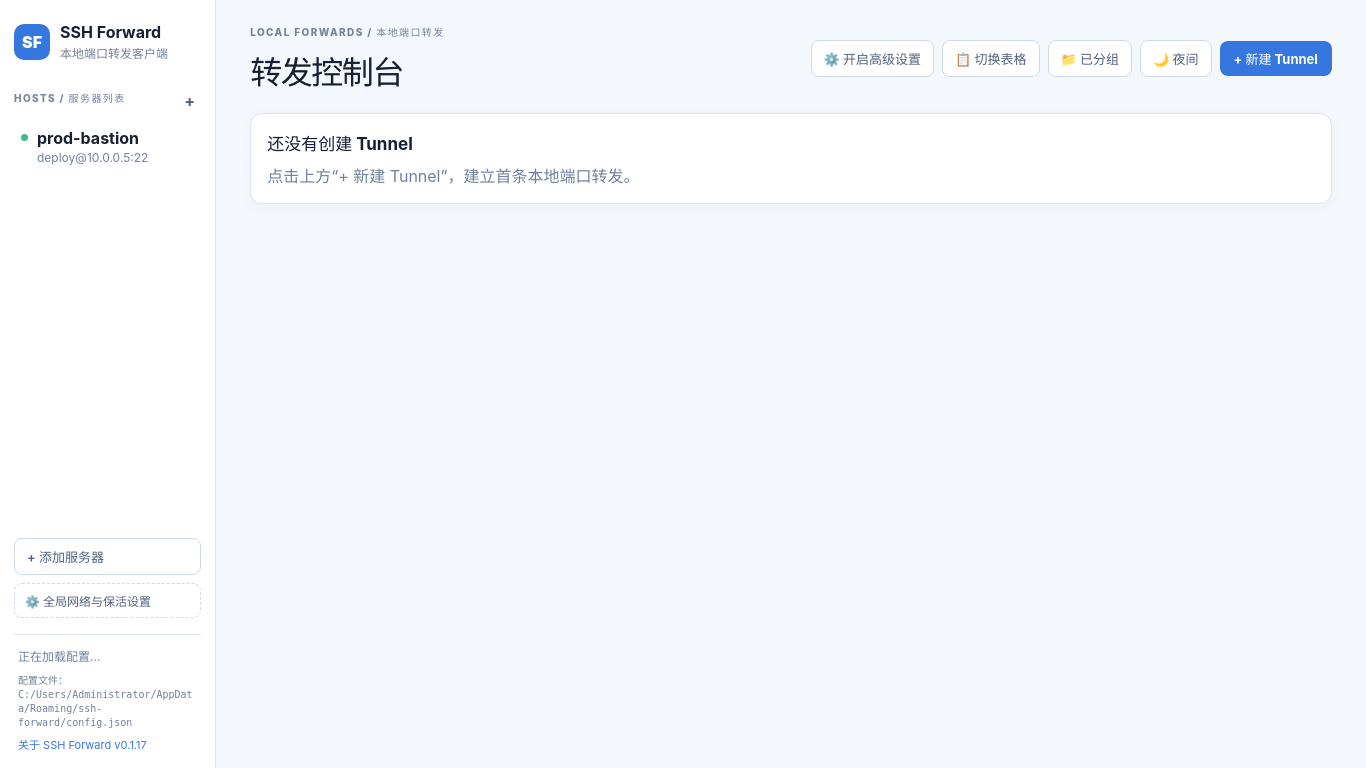
Test: 对话框语义与键盘操作 › 按 Esc 关闭弹窗
Expected: the text "prod-bastion" is shown, [37, 128, 148, 148]
Click the button "prod-bastion deploy@10.0.0.5:22" at x=108, y=146, box [14, 119, 201, 174]
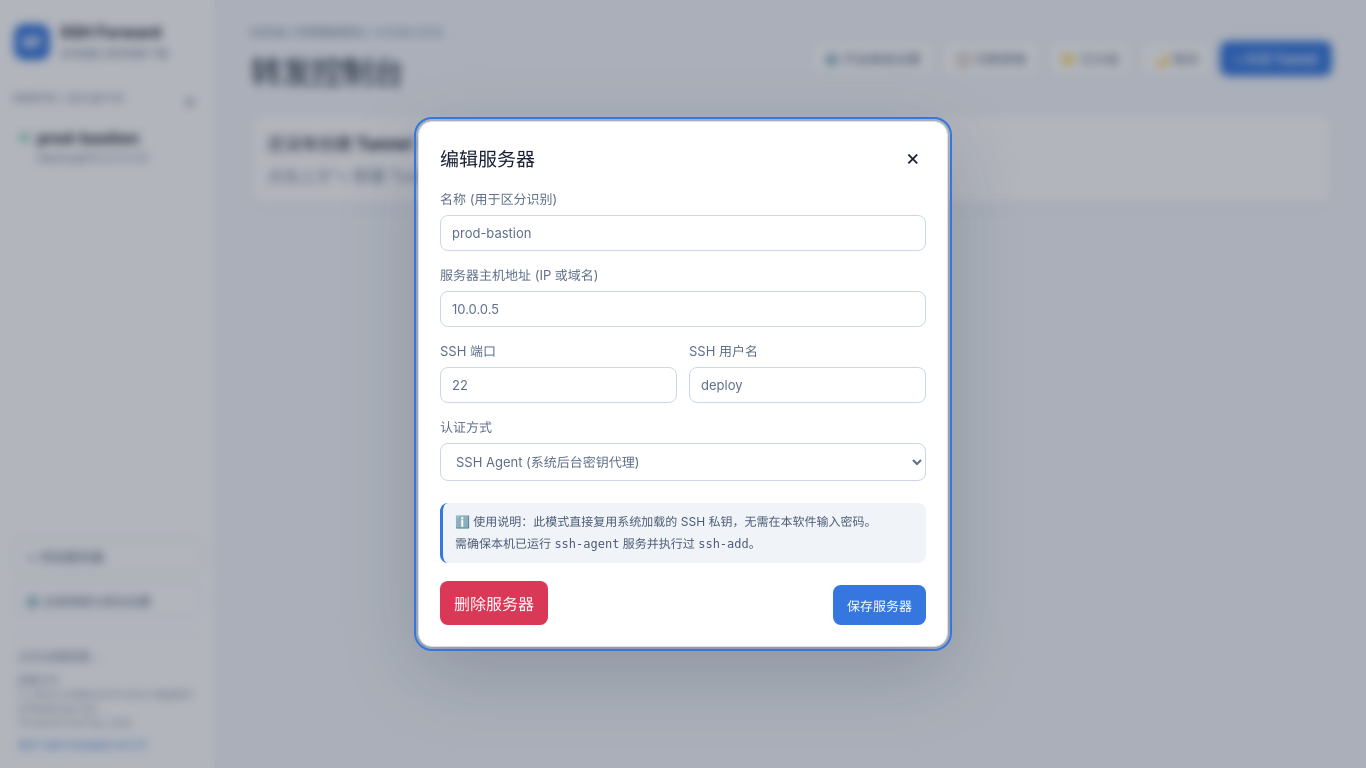
Press Escape
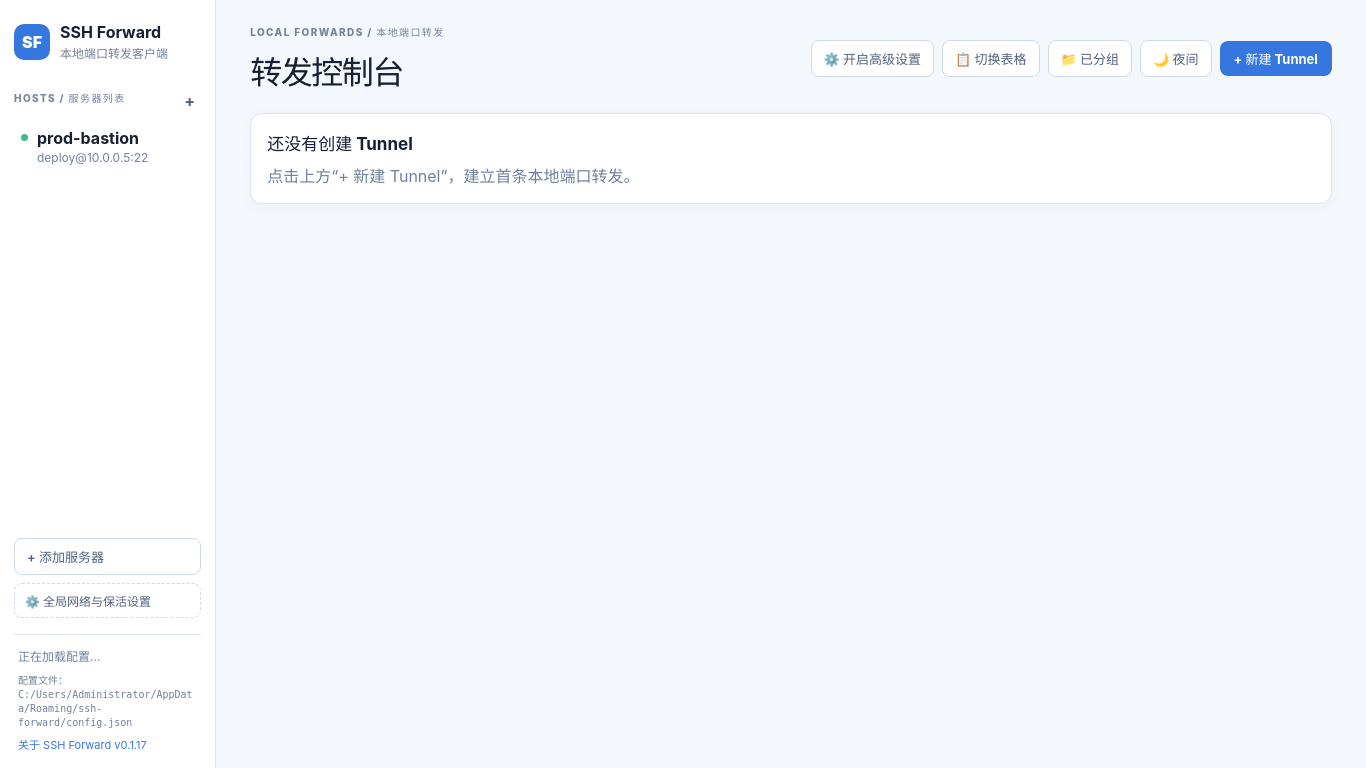
Expected: the dialog is gone
